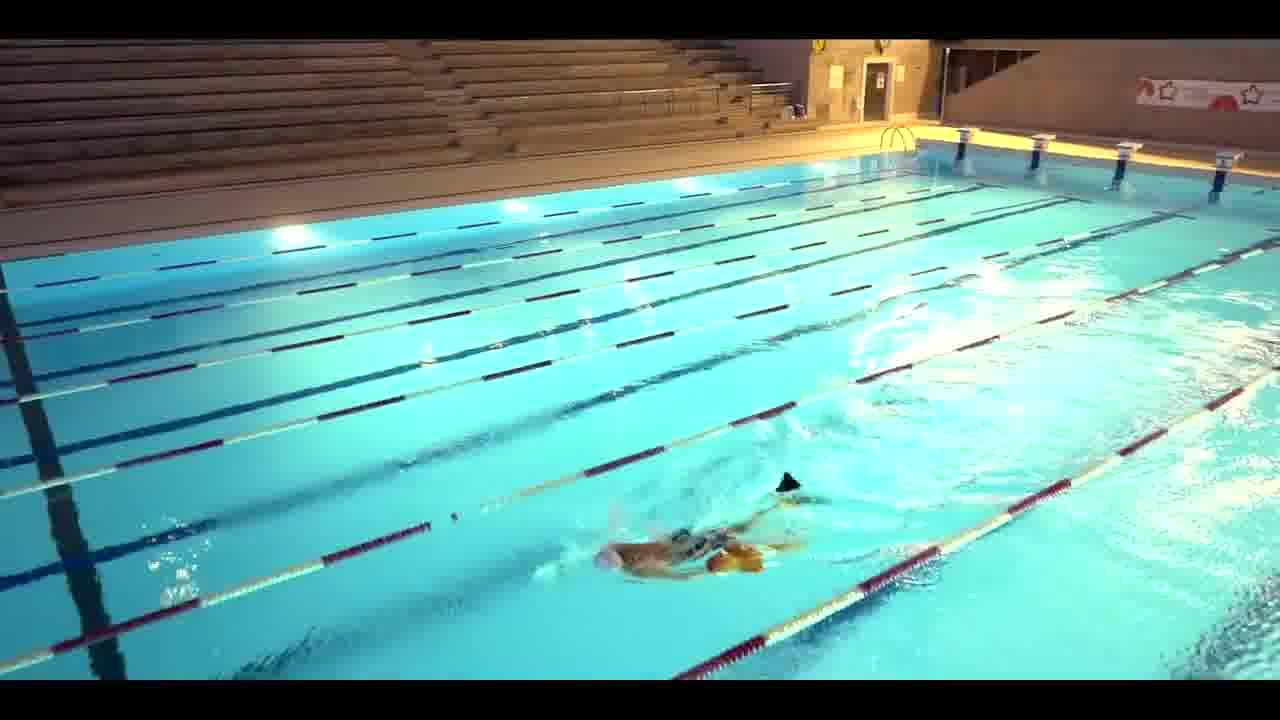human: (582, 473, 796, 592)
